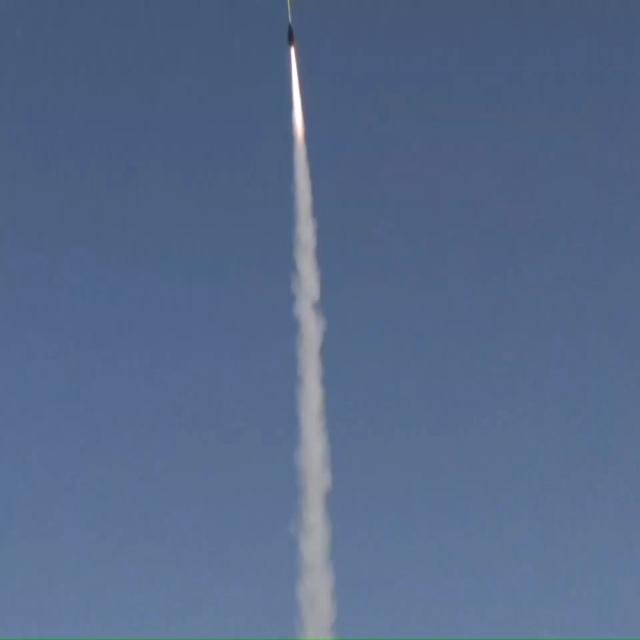Rocket: (288, 4, 295, 50)
